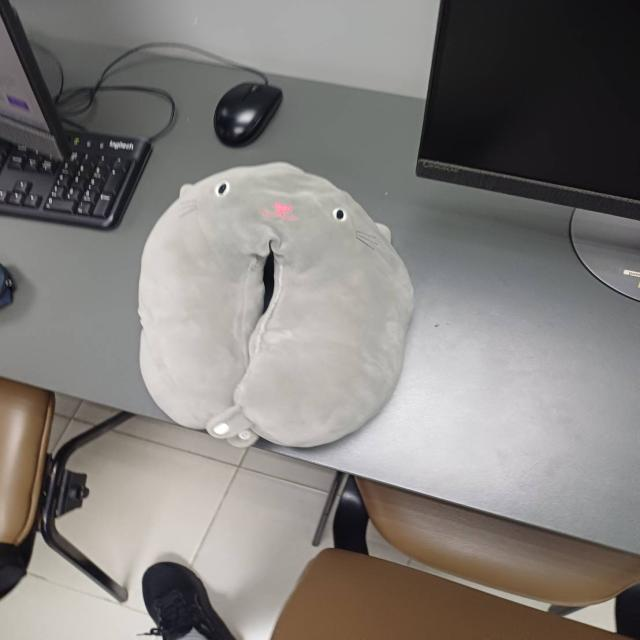pillow: (131, 155, 419, 459)
